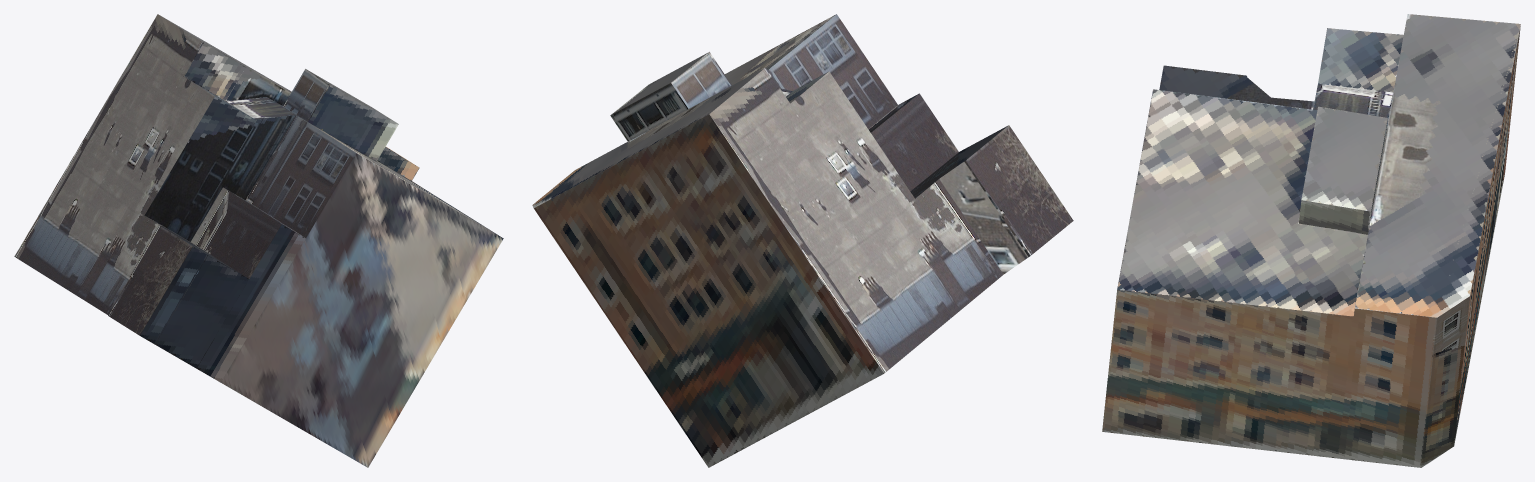
3 views of the same model, side by side, from view 1: azimuth 30°, elevation 25°; view 2: azimuth 150°, elevation 25°; view 3: azimuth 270°, elevation 25° (orthographic). The views are drawn at different scales.
Parts seen in each view (by area): view 1: BAG_0599100000702268 (×6); view 2: BAG_0599100000702268 (×5); view 3: BAG_0599100000702268 (×5).
Part boxes in pixels (<box>): BAG_0599100000702268 (×6): <box>14,14,503,467</box>; BAG_0599100000702268 (×5): <box>532,14,1073,467</box>; BAG_0599100000702268 (×5): <box>1102,14,1520,467</box>.
Bounding box in the file's own units: 24.47 × 23.17 × 20.58.
1 material, 1 textured.
